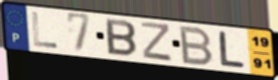7: (65, 12, 92, 57)
B: (179, 25, 216, 67), (104, 17, 139, 59)
L: (30, 11, 60, 50), (217, 30, 246, 70)
Z: (140, 20, 174, 64)
